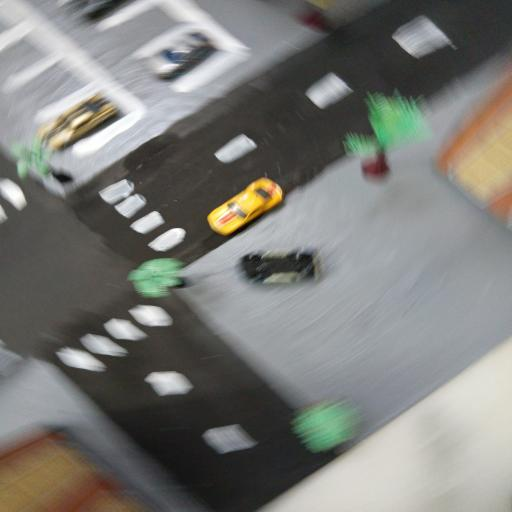car crash: (236, 240, 330, 294)
